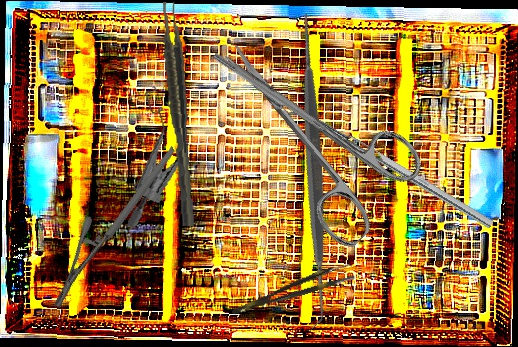Iris Scissors: (189, 6, 435, 253)
Needle Holder: (17, 146, 213, 311)
Pusher: (211, 52, 349, 149)
Spatula Surgical: (148, 2, 479, 333), (282, 99, 494, 237)
Speculum: (98, 80, 207, 229)
Tissue Forceps: (159, 1, 196, 227), (228, 261, 356, 317)
